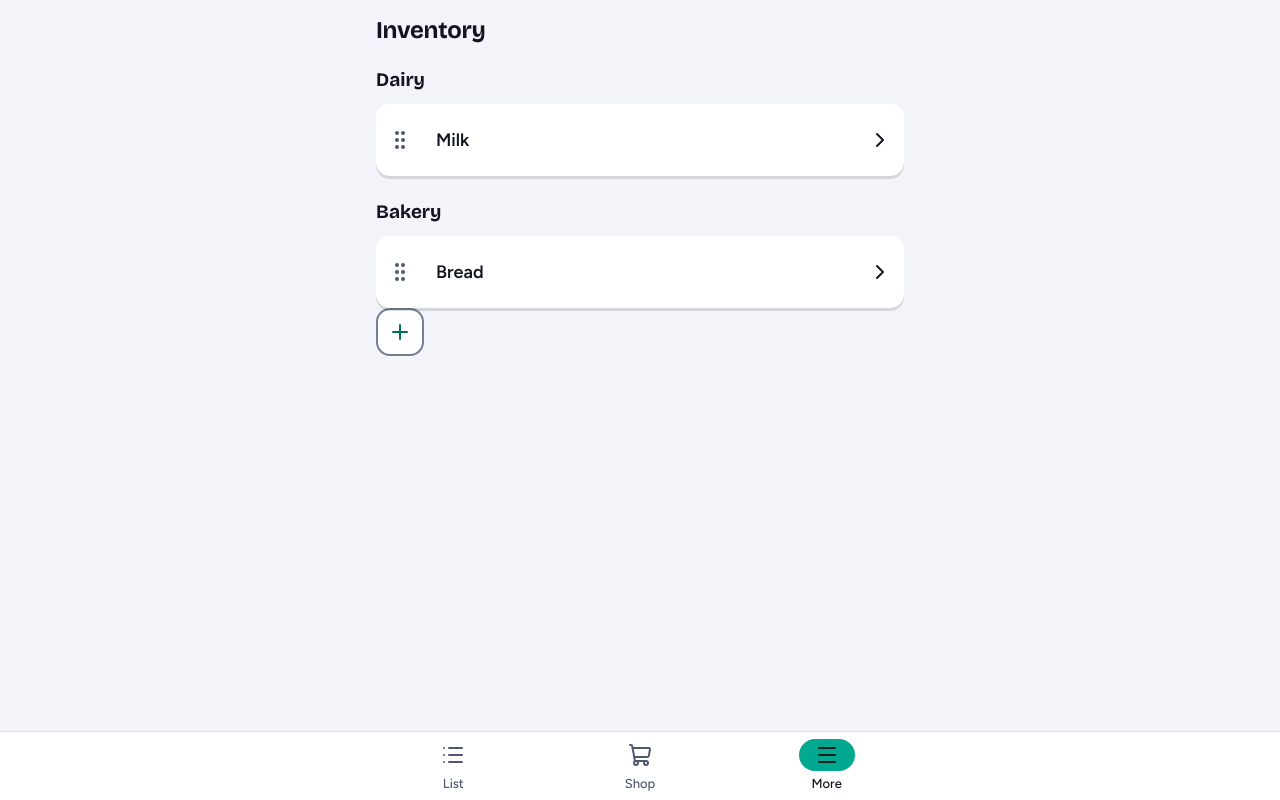
Test case: A new custom category on Inventory › shows a heading with 0 items as soon as it is saved, without a reload
Click the button named "Add Category" at (400, 332), box [376, 308, 424, 356]
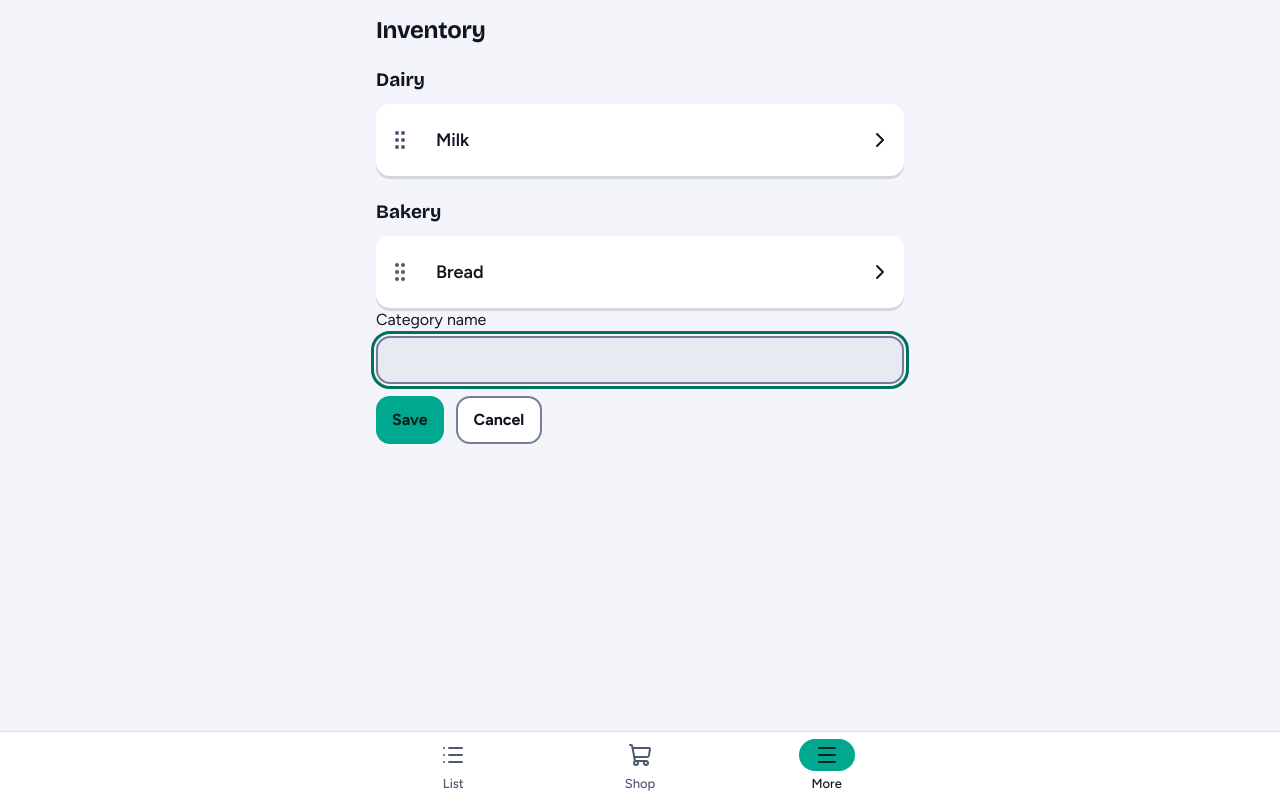
Type "Baby" into the field labelled "Category name" at (640, 360), box [376, 336, 904, 384]
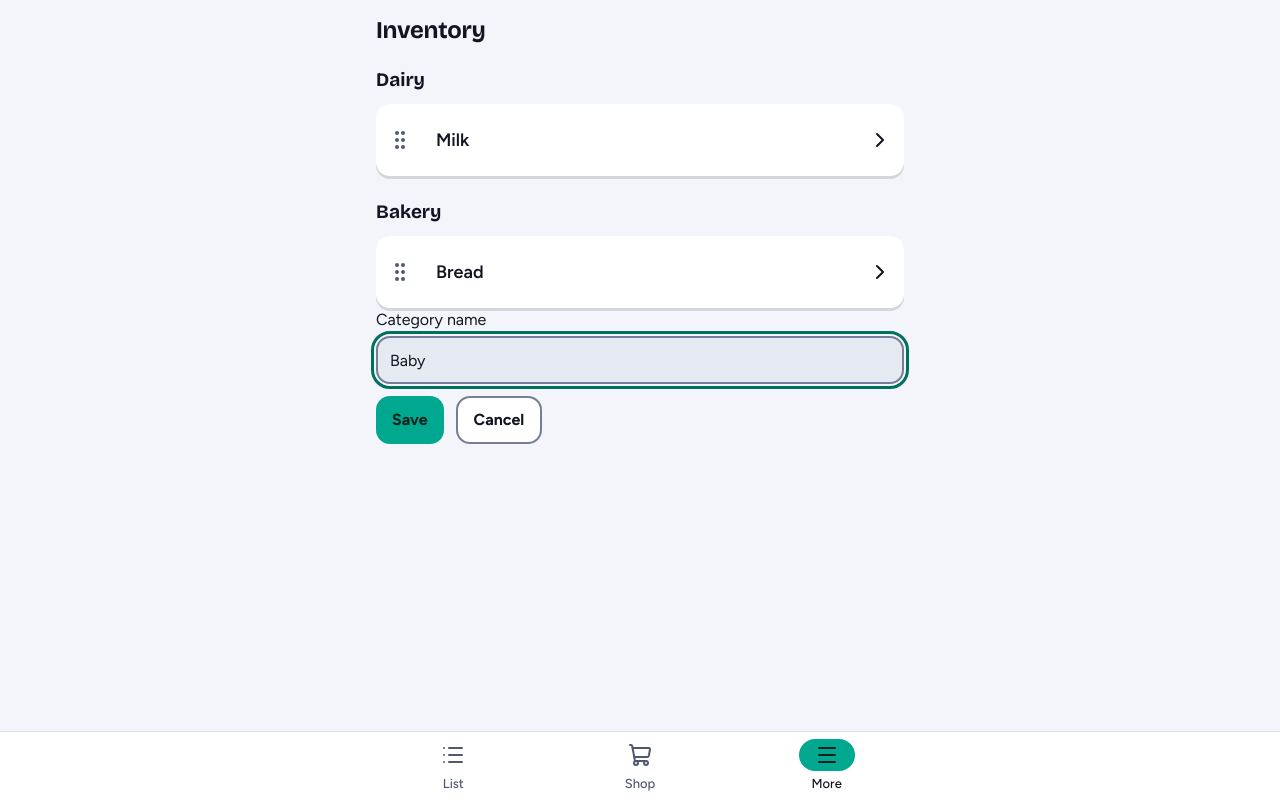
Click the button "Save" at (410, 420), box [376, 396, 444, 444]
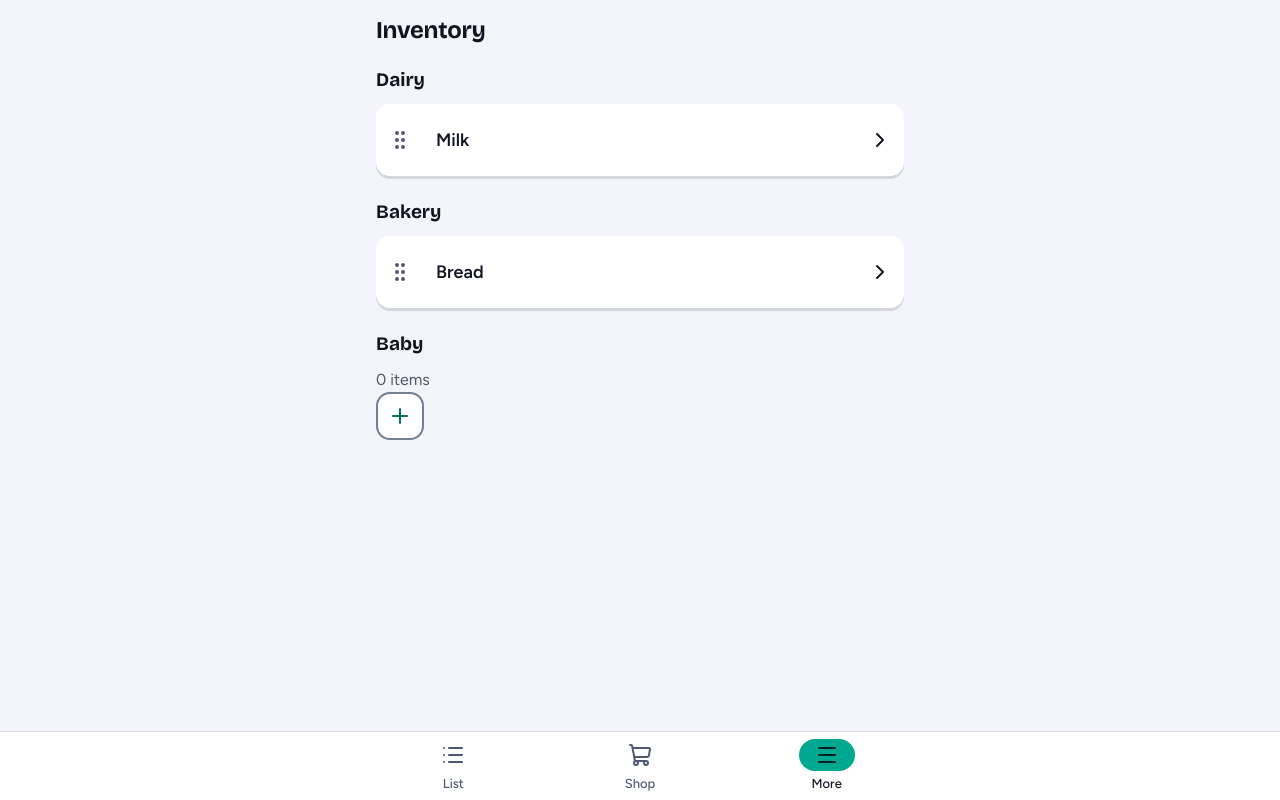
Result: the text "0 items" is shown at [376, 370, 430, 389]
